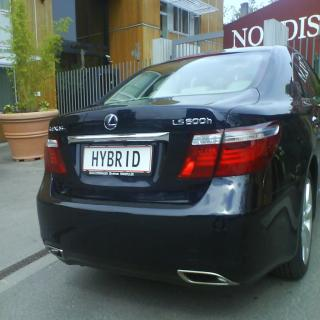license: (80, 140, 156, 186)
